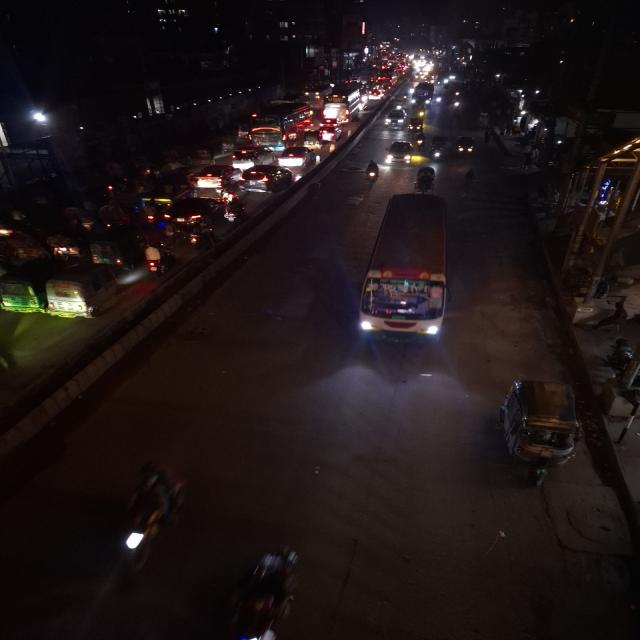bus: (356, 188, 458, 348), (245, 101, 314, 149), (323, 88, 362, 122), (410, 82, 435, 109)
car: (234, 163, 299, 195), (189, 163, 242, 188), (278, 145, 317, 168), (384, 138, 414, 164), (383, 108, 407, 128)
cng: (494, 373, 588, 492), (42, 261, 121, 323), (2, 273, 44, 325), (91, 228, 145, 268), (454, 133, 476, 160), (408, 116, 424, 133)
motorcycle: (94, 450, 190, 590), (229, 540, 309, 640), (179, 215, 224, 251), (140, 240, 178, 277), (356, 159, 388, 187), (221, 195, 249, 226), (414, 130, 425, 150)
pickup_van: (133, 178, 200, 205)
rickshaw: (409, 165, 439, 192), (431, 134, 449, 162)
